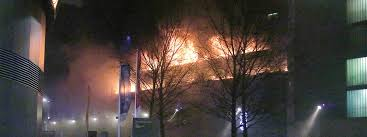fire: (118, 18, 293, 83)
